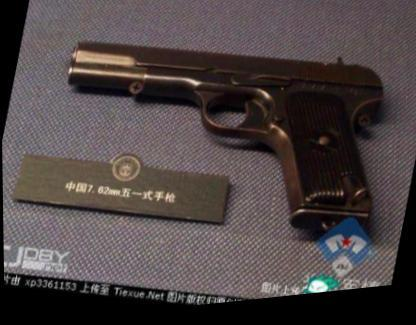pistol: (38, 2, 399, 276)
